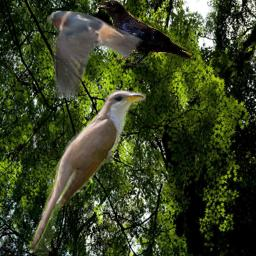Crow: (97, 0, 193, 66)
Cuckoo: (26, 90, 146, 256)
Swallow: (47, 7, 143, 98)
